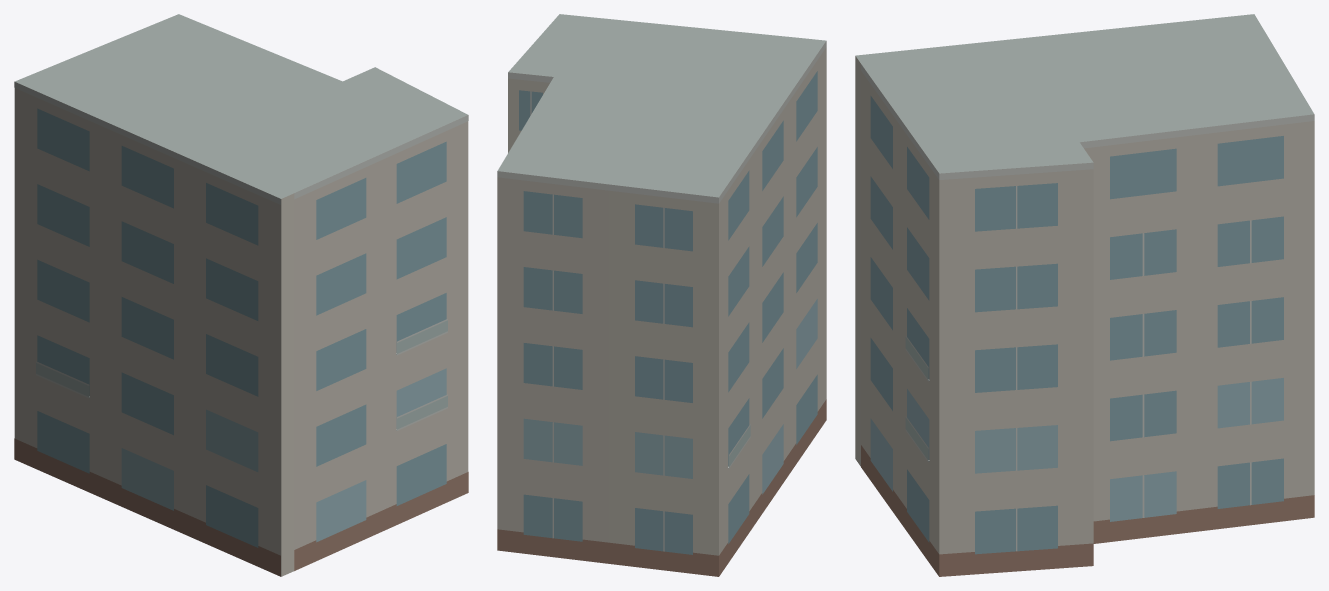
File: survey-upis-32591090.glb
The picture shows the model from 3 angles, left to right: view 1: azimuth 30°, elevation 25°; view 2: azimuth 150°, elevation 25°; view 3: azimuth 270°, elevation 25°; orthographic projection. The views are drawn at different scales.
Parts seen in each view (by area): view 1: survey-upis-32591090.tmp; view 2: survey-upis-32591090.tmp; view 3: survey-upis-32591090.tmp.
Boxes of the visible parts, x1=… form: survey-upis-32591090.tmp: x1=14, y1=14, x2=468, y2=576; survey-upis-32591090.tmp: x1=497, y1=14, x2=826, y2=576; survey-upis-32591090.tmp: x1=855, y1=14, x2=1314, y2=576.
Size of the model in its own units: 12.65 by 14.9 by 15.38.
